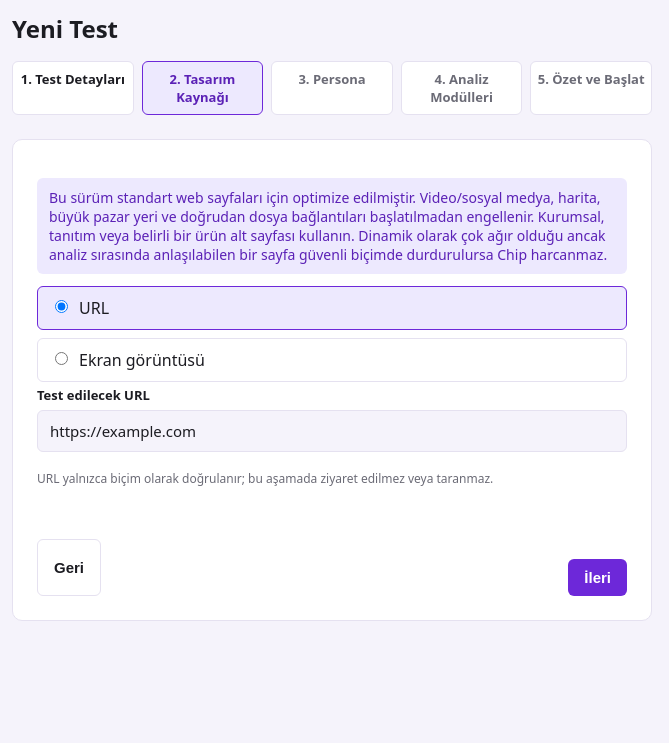
Test case: TestWizard › kaynak URL'den screenshot'a cevrilince secili network_device_test otomatik kaldirilir ve uyari gosterilir
Check: the list item "2. Tasarım Kaynağı" is shown, box [142,61,263,115]
Click the radio button labelled "Ekran görüntüsü" at [62, 358], box [55,352,68,365]
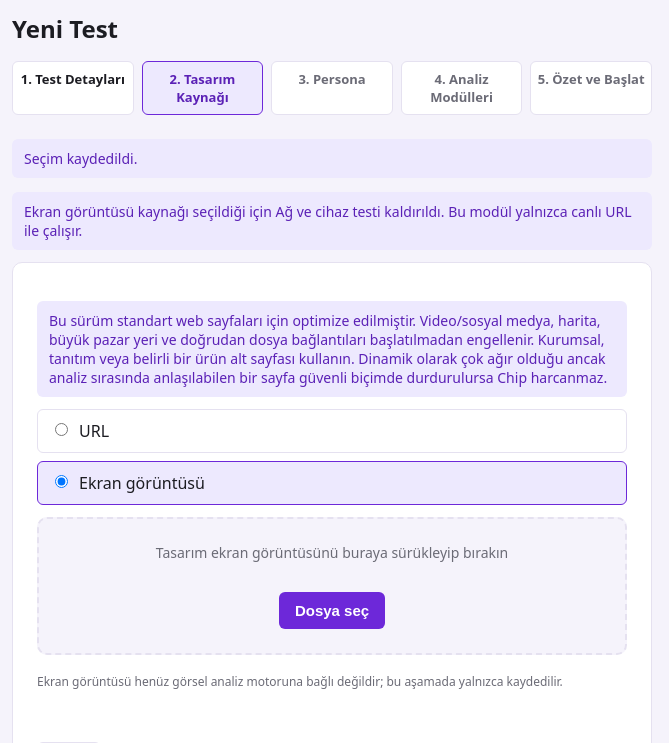
Check: the text "Ağ ve cihaz testi kaldırıldı. Bu modül yalnızca canlı URL ile çalışır." is shown, box [24,202,632,240]
